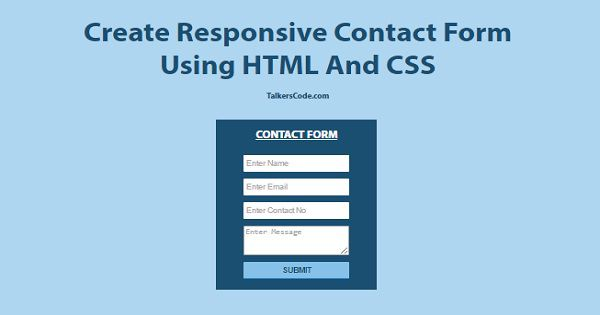button: (242, 261, 351, 280)
field: (242, 224, 349, 256), (242, 153, 351, 174), (242, 177, 350, 197), (242, 201, 350, 219)
